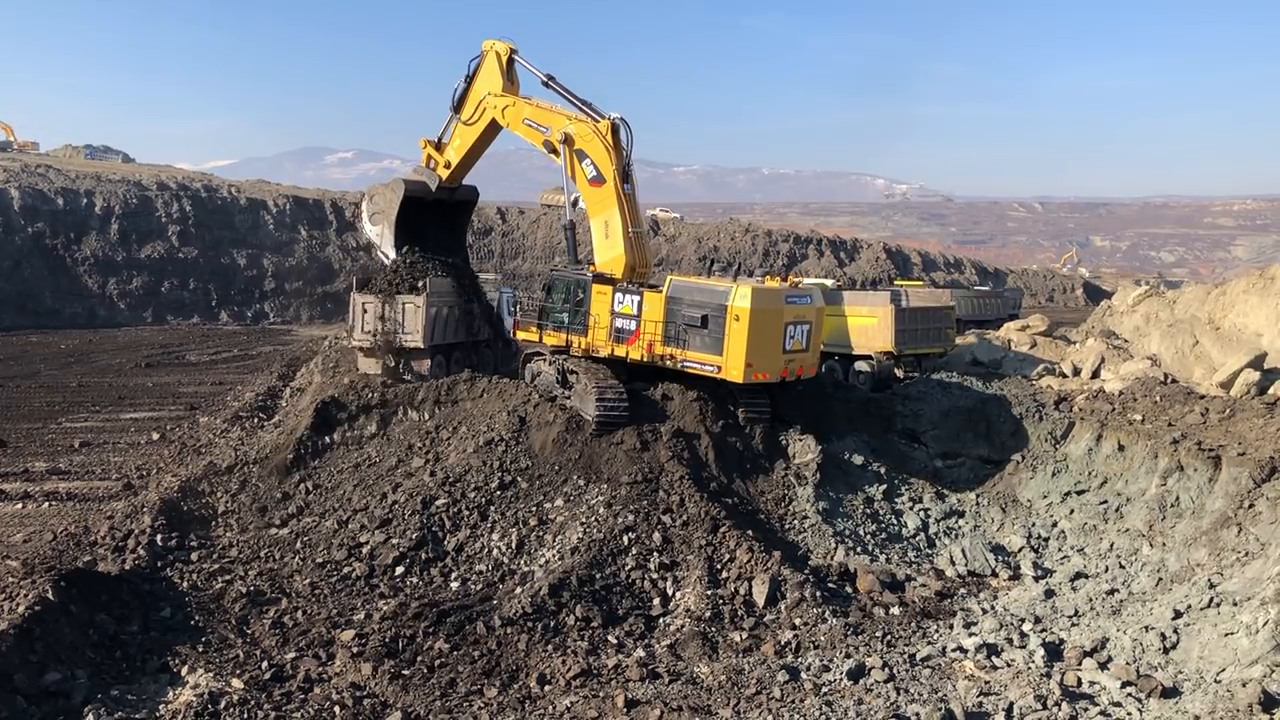full: (355, 173, 484, 270)
